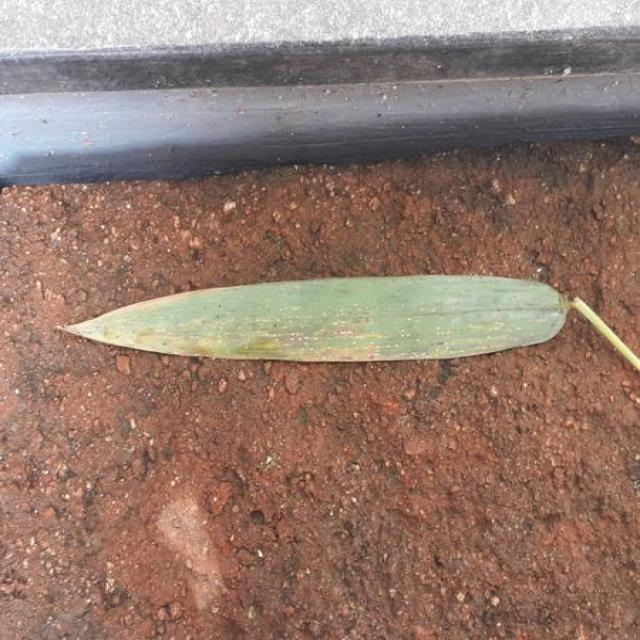Bamboo: (63, 275, 567, 361)
defectedBamboo: (62, 322, 495, 361)
